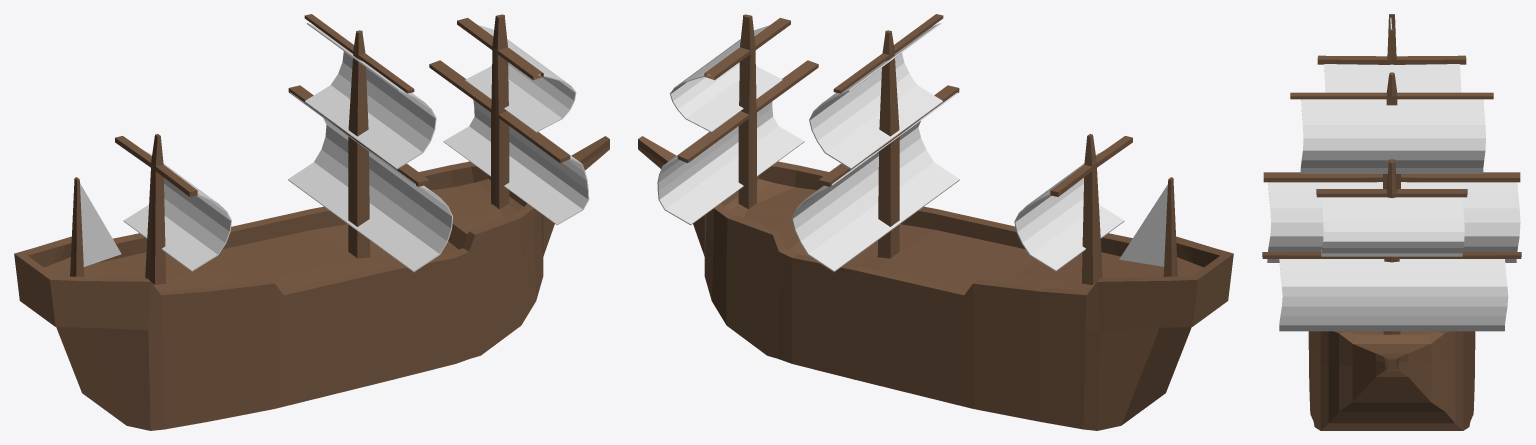
The model's file is galleon.glb.
The picture shows the model from 3 angles, left to right: view 1: azimuth 30°, elevation 25°; view 2: azimuth 150°, elevation 25°; view 3: azimuth 270°, elevation 25°; orthographic projection.
Visible parts, largest first — view 1: Ship.001; view 2: Ship.001; view 3: Ship.001.
Boxes of the visible parts, x1,y1,x2,y2 form: Ship.001: (14, 14, 609, 430); Ship.001: (638, 14, 1233, 430); Ship.001: (1262, 14, 1521, 430).
Size of the model in its own units: 14.25 by 7.46 by 5.6.
